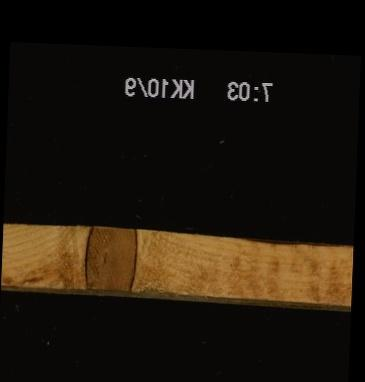edge_knot: (83, 223, 139, 293)
